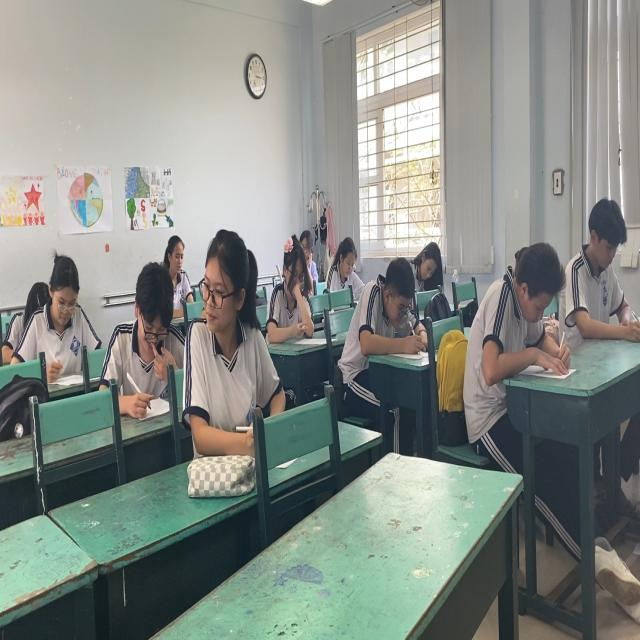cheating: (190, 222, 273, 419)
not_cheating: (468, 239, 573, 370), (114, 260, 194, 409), (571, 194, 640, 344), (20, 246, 100, 356), (266, 222, 322, 347), (361, 253, 421, 353), (322, 233, 371, 298), (159, 236, 198, 305), (409, 222, 443, 294)
